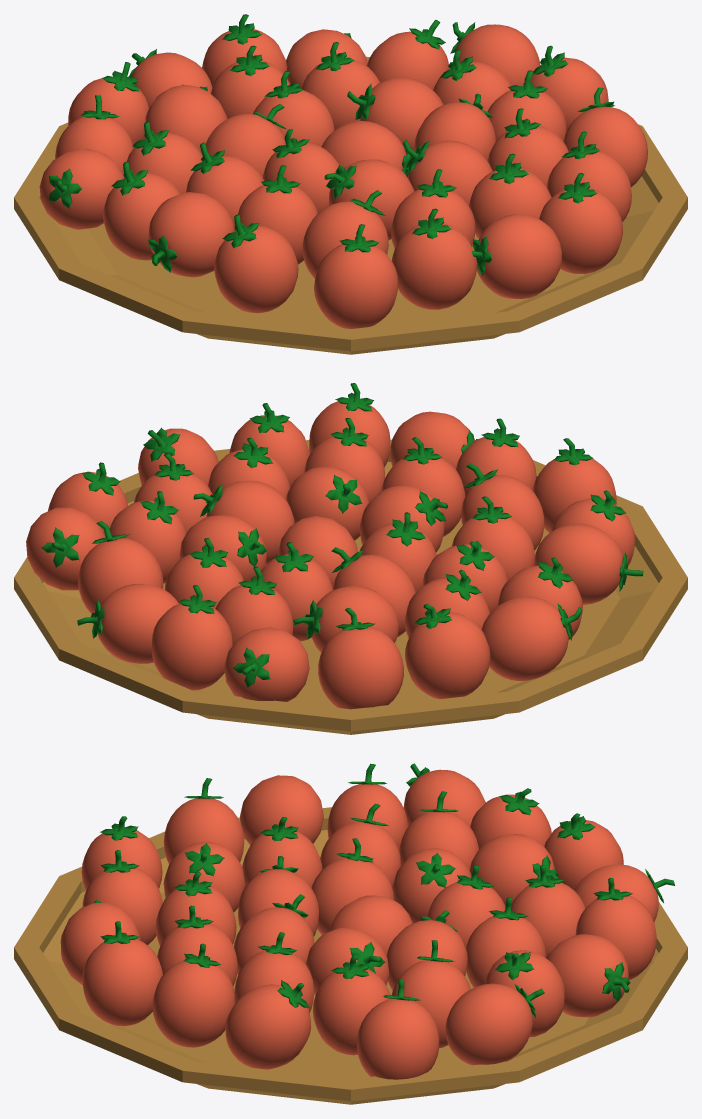
Rendered from Tomato bilao(full).fbx.
The picture shows the model from 3 angles, top to bottom: view 1: azimuth 30°, elevation 25°; view 2: azimuth 150°, elevation 25°; view 3: azimuth 270°, elevation 25°; orthographic projection.
Parts seen in each view (by area): view 1: bilao, Sphere, Sphere.001, Sphere.020, Sphere.002, Sphere.031, Sphere.006, Sphere.036, Sphere.032, Sphere.008, Sphere.014, Sphere.004 (+27 smaller); view 2: bilao, Sphere.035, Sphere.034, Sphere.036, Sphere.011, Sphere.025, Sphere.031, Sphere.033, Sphere.038, Sphere.017, Sphere.013, Sphere (+27 smaller); view 3: bilao, Sphere.038, Sphere.005, Sphere.008, Sphere.006, Sphere.022, Sphere.033, Sphere.021, Sphere.011, Sphere.031, Sphere.020, Sphere.028 (+27 smaller).
Boxes of the visible parts, box(x1,y1,x2,y2) form: bilao: box(14, 56, 687, 354); Sphere: box(314, 224, 398, 328); Sphere.001: box(391, 208, 476, 309); Sphere.020: box(214, 214, 298, 313); Sphere.002: box(471, 214, 561, 298); Sphere.031: box(148, 192, 234, 277); Sphere.006: box(539, 173, 622, 273); Sphere.036: box(39, 148, 124, 229); Sphere.032: box(103, 161, 180, 260); Sphere.008: box(563, 87, 647, 187); Sphere.014: box(347, 77, 443, 158); Sphere.004: box(469, 153, 551, 238); bilao: box(14, 439, 687, 734); Sphere.035: box(405, 603, 490, 699); Sphere.034: box(318, 608, 403, 709); Sphere.036: box(481, 596, 582, 680); Sphere.011: box(151, 585, 232, 690); Sphere.025: box(224, 627, 309, 701); Sphere.031: box(534, 523, 643, 604); Sphere.033: box(77, 584, 178, 663); Sphere.038: box(26, 507, 105, 590); Sphere.017: box(78, 521, 163, 613); Sphere.013: box(286, 466, 368, 540); Sphere: box(533, 438, 616, 532); bilao: box(14, 807, 687, 1104); Sphere.038: box(445, 983, 544, 1065); Sphere.005: box(152, 943, 235, 1047); Sphere.008: box(225, 980, 311, 1069); Sphere.006: box(82, 921, 162, 1026); Sphere.022: box(357, 979, 439, 1079); Sphere.033: box(546, 934, 630, 1017); Sphere.021: box(312, 954, 391, 1055); Sphere.011: box(575, 878, 656, 980); Sphere.031: box(240, 775, 323, 845); Sphere.020: box(163, 778, 244, 864); Sphere.028: box(469, 834, 558, 905).
Size of the model in its own units: 1.67 by 0.3217 by 1.67.
